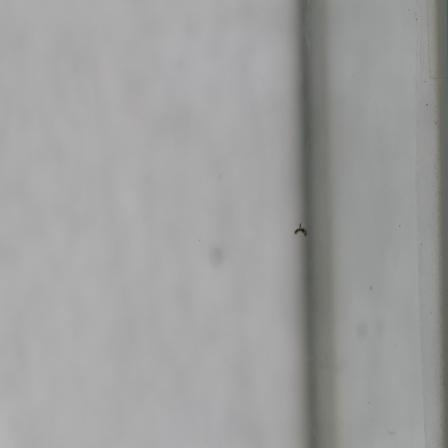Jentik-Nyamuk: (289, 221, 310, 243)
